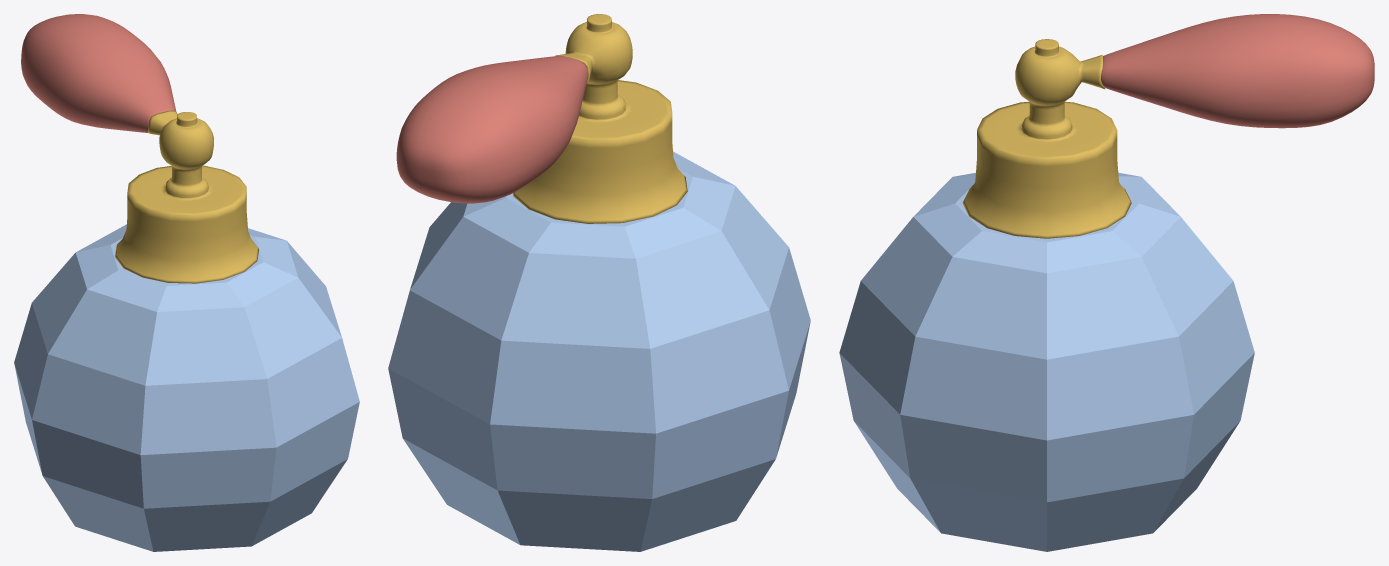
Rendered from perfumeUV.fbx.
3 renders of one model, left to right at view 1: azimuth 30°, elevation 25°; view 2: azimuth 150°, elevation 25°; view 3: azimuth 270°, elevation 25°, orthographic. The views are drawn at different scales.
Parts seen in each view (by area): view 1: Cylinder, Cylinder_001, Cylinder_002; view 2: Cylinder, Cylinder_002, Cylinder_001; view 3: Cylinder, Cylinder_002, Cylinder_001.
Part boxes in pixels (box(x1,y1,x2,y2)): Cylinder: box(14, 224, 359, 551); Cylinder_001: box(115, 110, 258, 283); Cylinder_002: box(21, 14, 176, 132); Cylinder: box(388, 151, 810, 551); Cylinder_002: box(396, 56, 588, 203); Cylinder_001: box(513, 14, 687, 223); Cylinder: box(839, 172, 1254, 551); Cylinder_002: box(1100, 14, 1374, 128); Cylinder_001: box(962, 39, 1131, 238).
Bounding box in the file's own units: 27.71 × 34.25 × 35.69.
